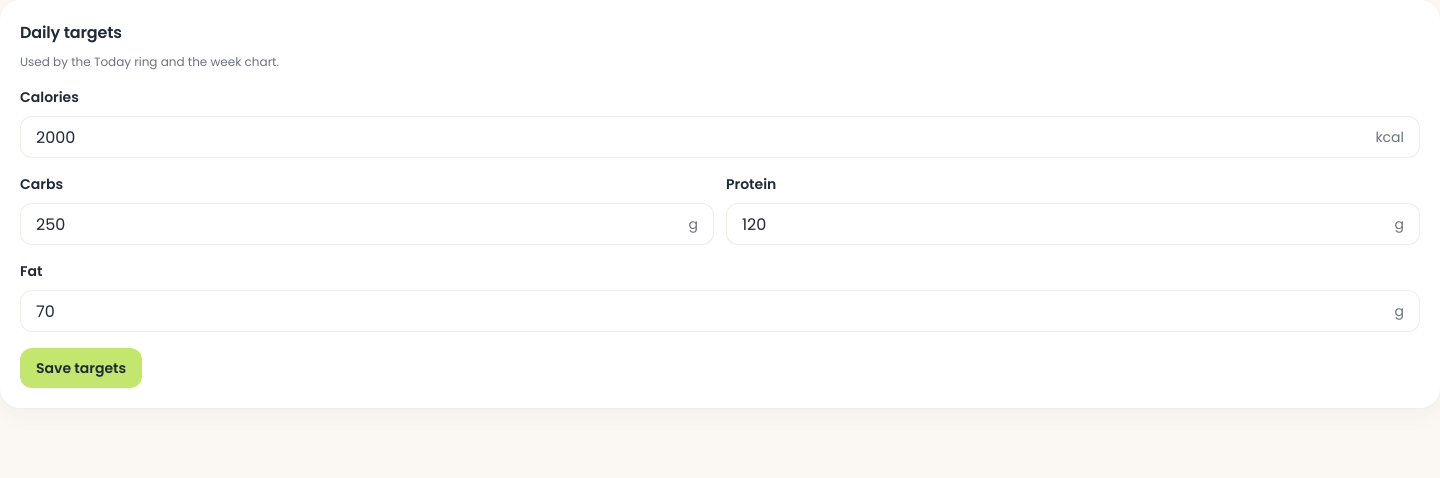
it: TargetsForm › does not save invalid macros and says what to fix
Replace the text in the field labelled "Carbs" with "abc" at x=358, y=224, box [36,204,680,244]
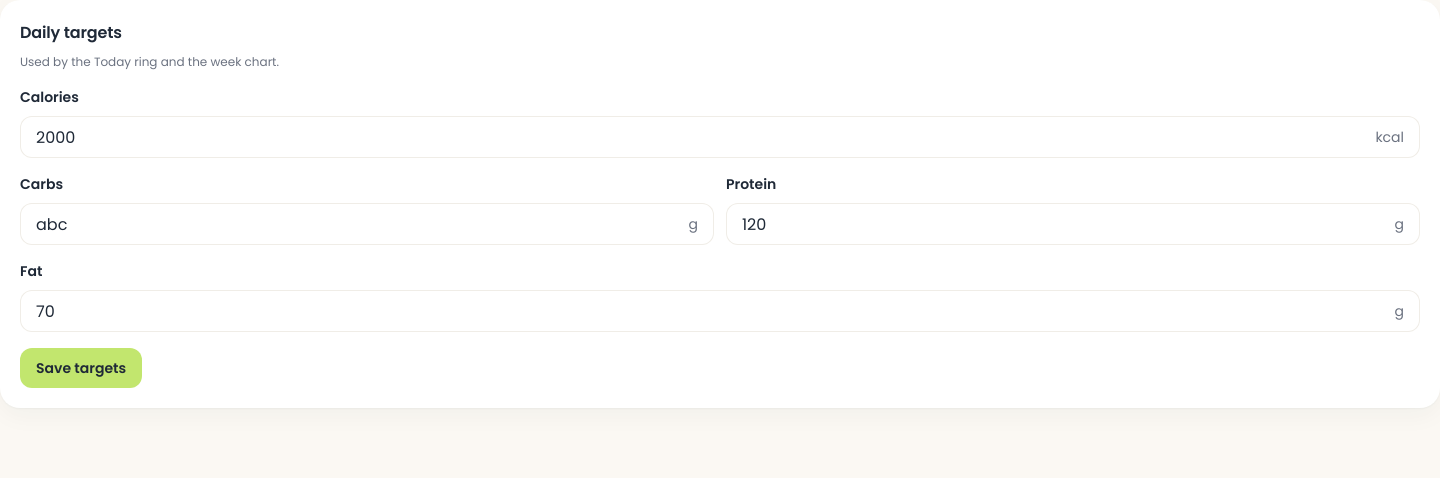
Replace the text in the field labelled "Protein" with "-20" at x=1064, y=224, box [742,204,1386,244]
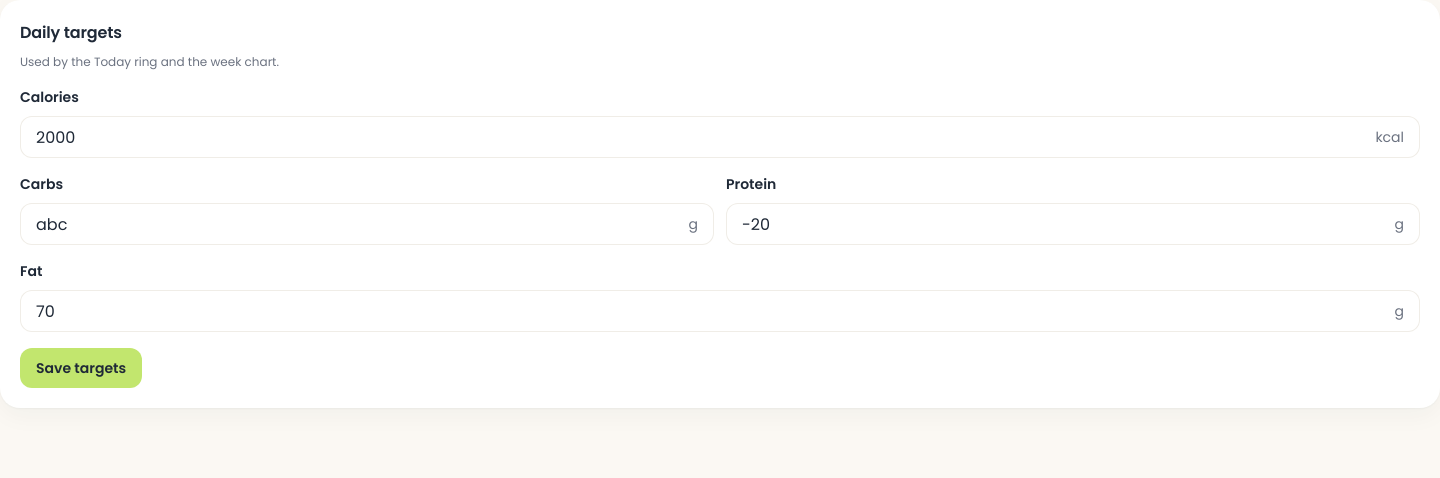
Replace the text in the field labelled "Fat" with "-1" at x=711, y=311, box [36,290,1386,332]
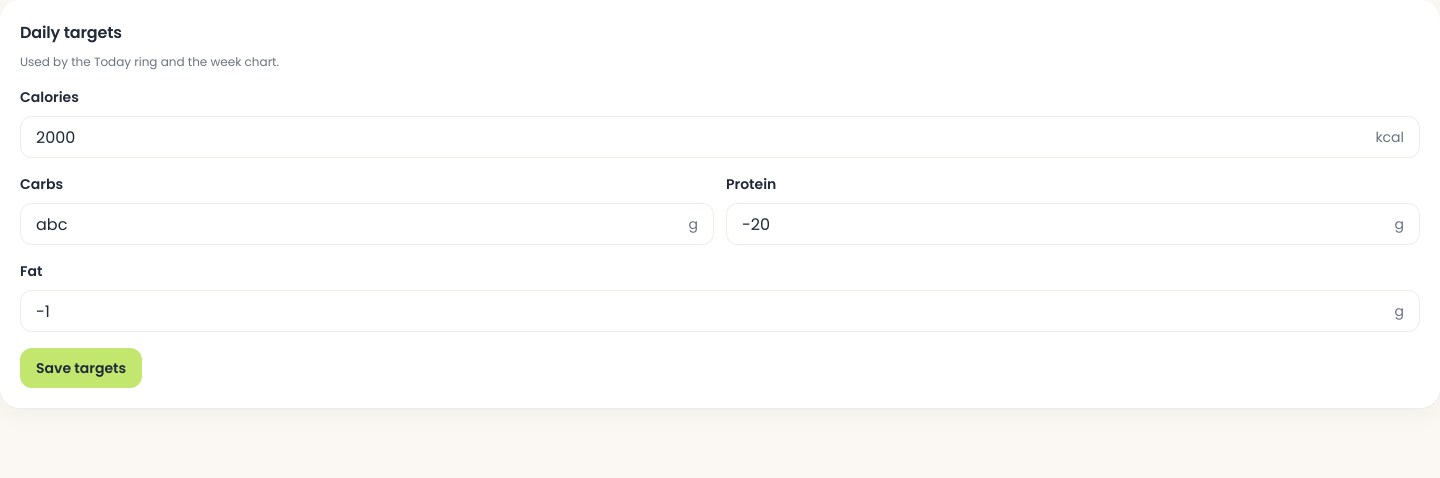
Click the button "Save targets" at x=81, y=368, box [20,348,142,388]
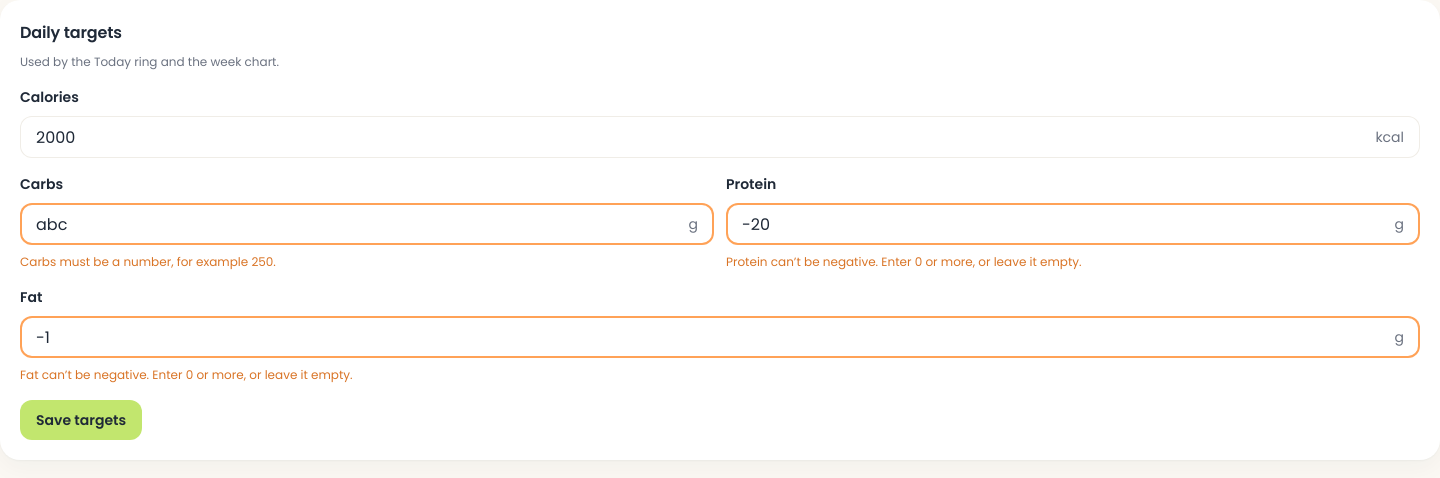
Check: the messages read "Carbs must be a number, for example 250.", "Protein can’t be negative. Enter 0 or more, or leave it empty.", "Fat can’t be negative. Enter 0 or more, or leave it empty.", in this order, box [20,253,276,270]; [726,253,1082,270]; [20,366,353,383]
